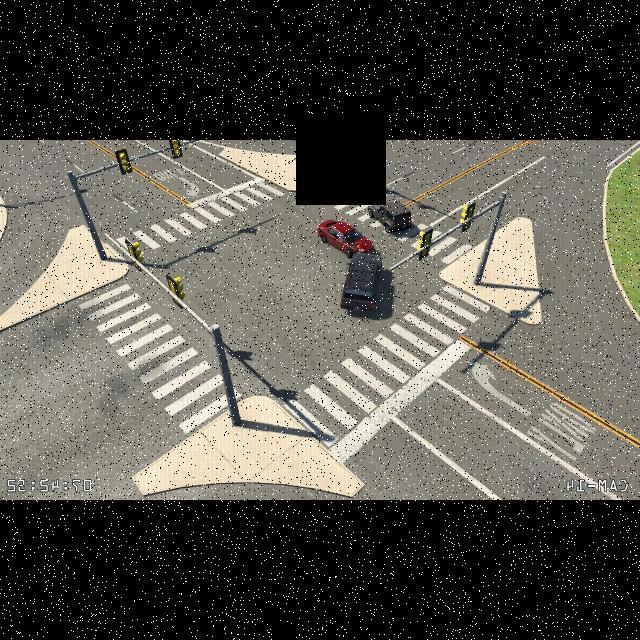moderate: (316, 218, 386, 314)
